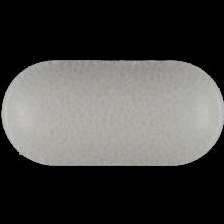48433-323: (0, 0, 224, 224)
